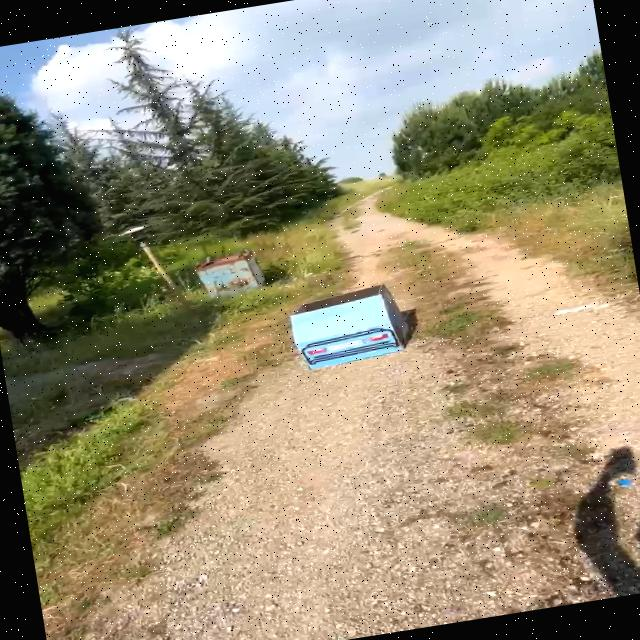blue_car: (274, 265, 442, 386)
